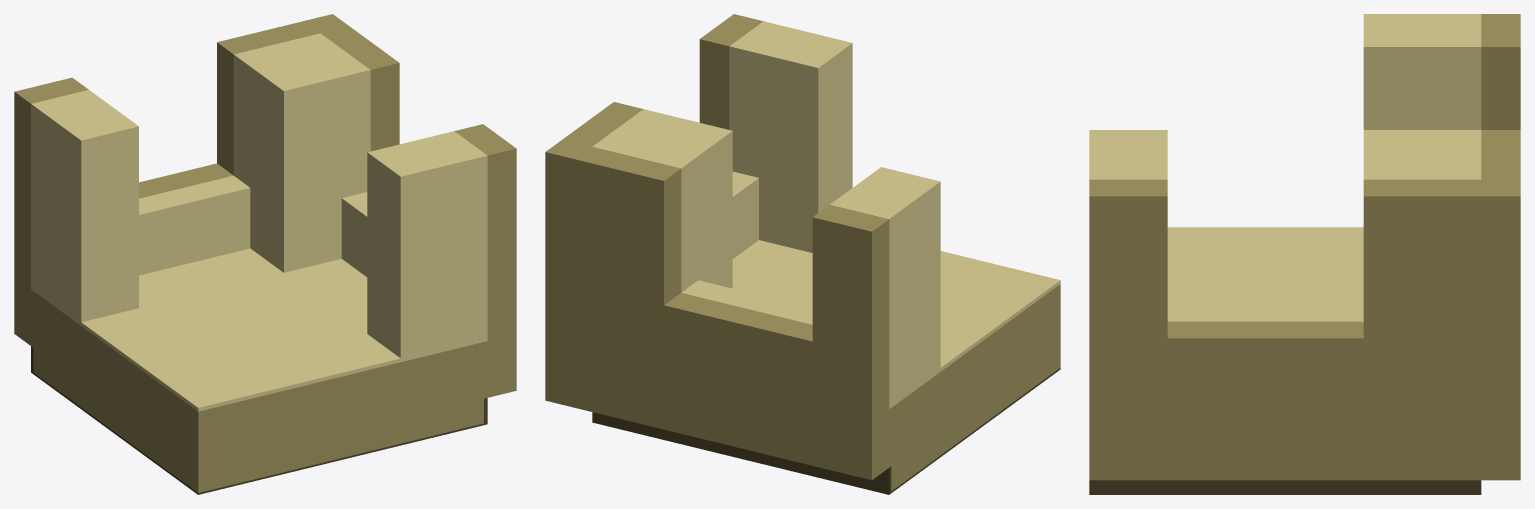
The model's file is sandtower_1.0-10.obj.
3 views of the same model, side by side, from view 1: azimuth 30°, elevation 25°; view 2: azimuth 150°, elevation 25°; view 3: azimuth 270°, elevation 25° (orthographic). The views are drawn at different scales.
Bounding box in the file's own units: 17.6 × 14.2 × 17.6.
1 material, 1 textured.
